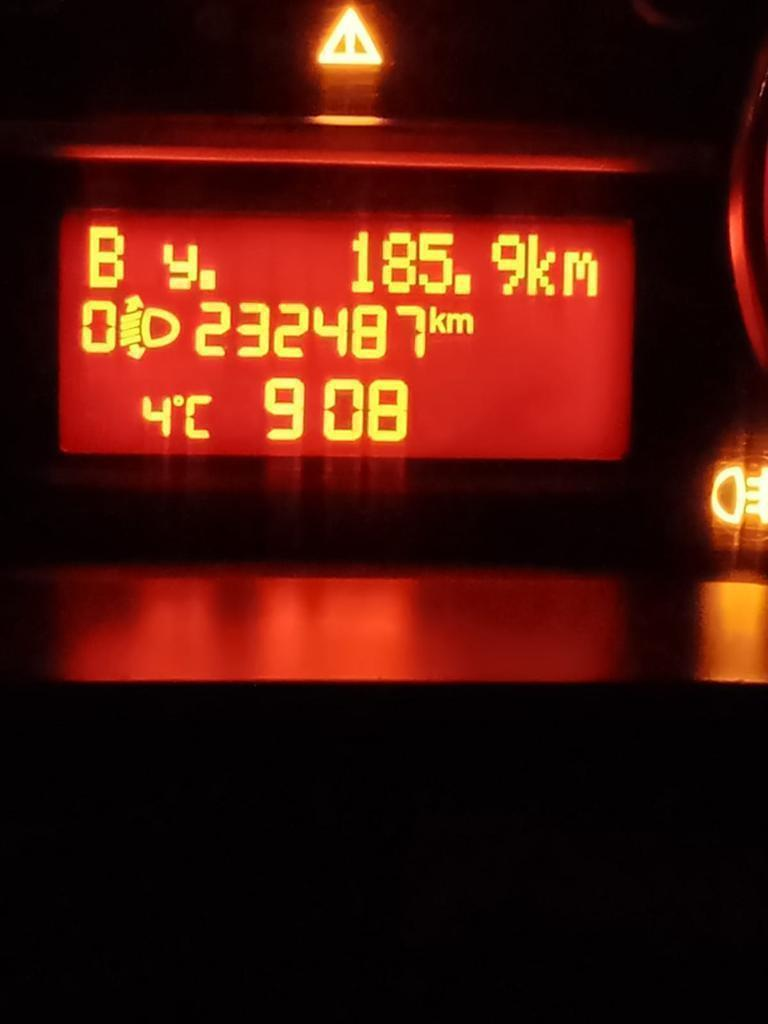,: (453, 270, 476, 298), (198, 266, 220, 292)
0: (321, 376, 365, 443), (79, 297, 117, 355)
1: (348, 228, 377, 298)
2: (194, 298, 232, 359), (272, 300, 310, 358)
3: (236, 300, 270, 357)
4: (312, 305, 348, 357), (140, 394, 172, 440)
5: (419, 230, 456, 296)
7: (394, 303, 427, 360)
8: (368, 377, 409, 443), (382, 229, 417, 295), (352, 302, 389, 359)
9: (261, 376, 306, 442), (490, 231, 525, 298)
X: (86, 222, 128, 290), (527, 231, 559, 296), (562, 248, 598, 299), (160, 241, 196, 289), (185, 392, 214, 441), (446, 311, 475, 336), (428, 304, 446, 335)
odometer: (52, 192, 643, 465)
